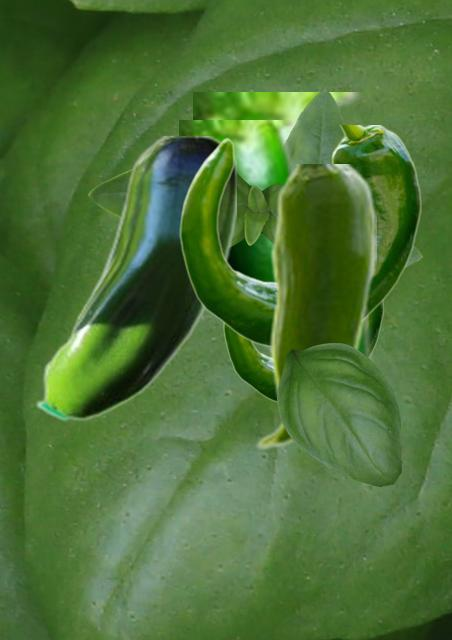green_chili: (35, 136, 235, 421), (179, 125, 421, 347), (193, 92, 372, 360), (254, 164, 375, 450), (179, 120, 305, 353), (223, 302, 383, 402)
